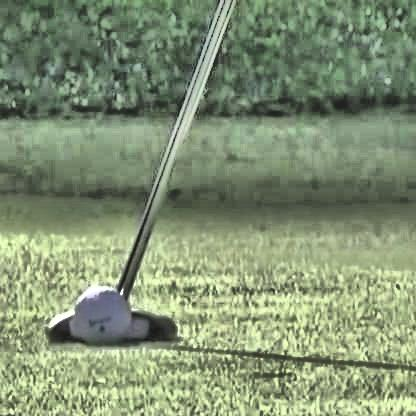golfball: (69, 281, 128, 344)
